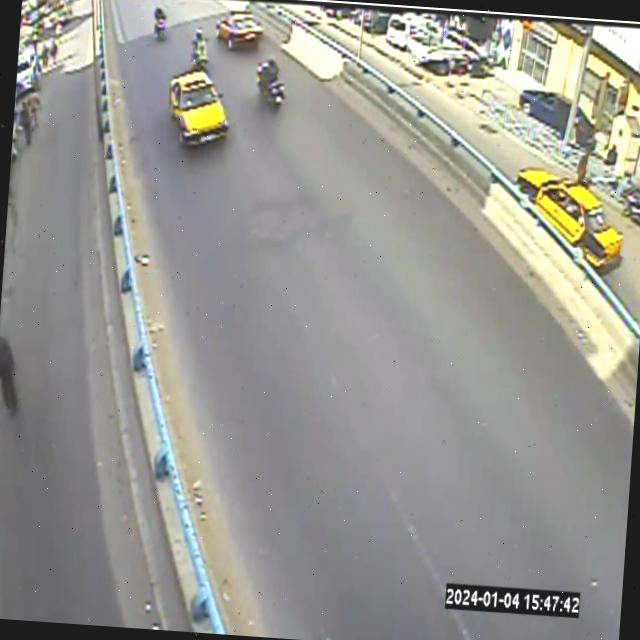car: (516, 168, 621, 273), (516, 169, 622, 271), (169, 70, 228, 145)
